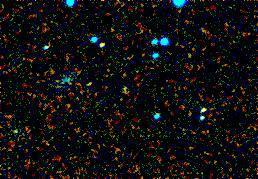star: (89, 31, 119, 61)
